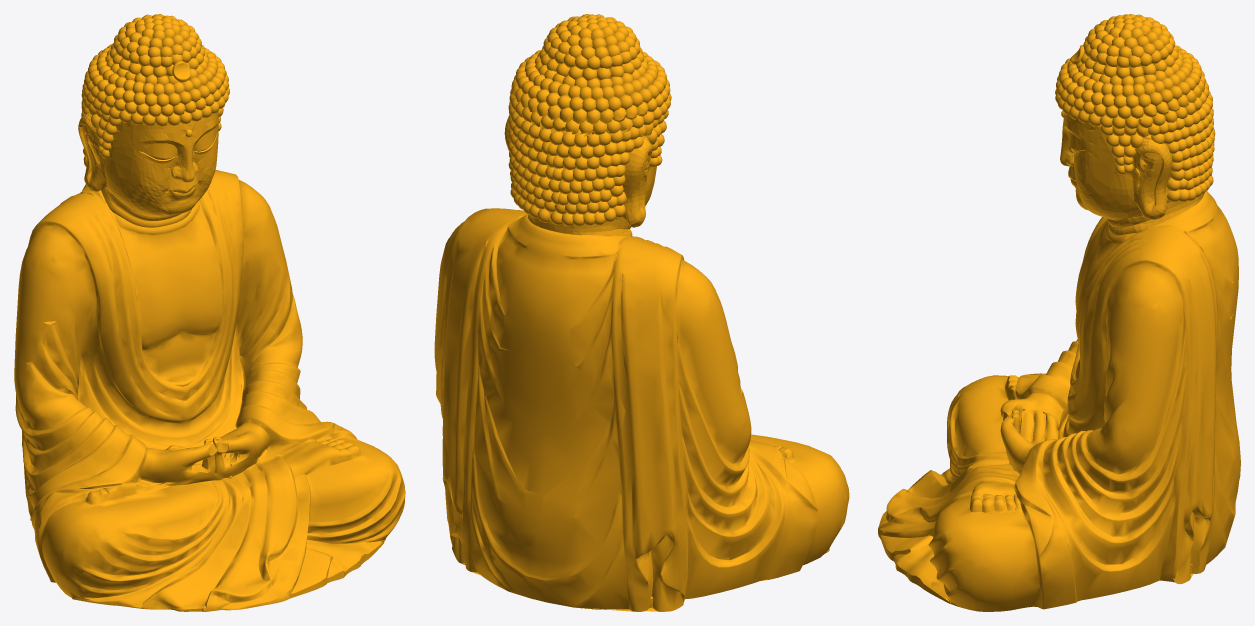
The model's file is Buddha2.FBX.
The picture shows the model from 3 angles, left to right: view 1: azimuth 30°, elevation 25°; view 2: azimuth 150°, elevation 25°; view 3: azimuth 270°, elevation 25°; orthographic projection. The views are drawn at different scales.
Visible parts, largest first — view 1: body; view 2: body; view 3: body.
Boxes of the visible parts, x1,y1,x2,y2 form: body: [14, 14, 405, 611]; body: [434, 14, 849, 611]; body: [878, 14, 1240, 611].
Bounding box in the file's own units: 76.64 × 108 × 69.12.
